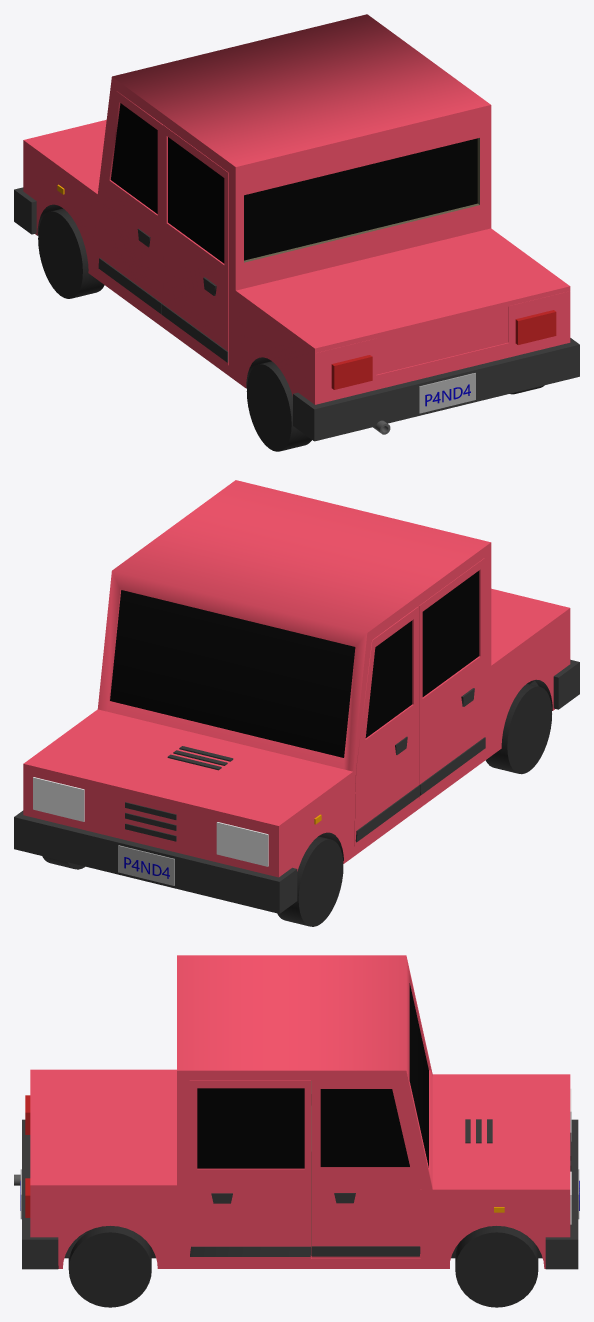
The model's file is normal_car2.fbx.
The picture shows the model from 3 angles, top to bottom: view 1: azimuth 30°, elevation 25°; view 2: azimuth 150°, elevation 25°; view 3: azimuth 270°, elevation 25°; orthographic projection. The views are drawn at different scales.
Parts seen in each view (by area): view 1: Body, Openthing, BackWindow, BAgagliaio, Paraurti_1, Cofano_1, BackDoor_2, FrontDoor_2, Window_4, Wheel_2_2, Window_5, Wheel_1 (+6 smaller); view 2: Body, Cofano_1, Window, Paraurti, FrontDoor_2, BackDoor_2, BAgagliaio, Window_4, Wheel_1, Window_5, Wheel_2_2, Openthing (+8 smaller); view 3: Body, Cofano_1, Openthing, BackDoor, FrontDoor, Window_2, BAgagliaio, Window_3, Wheel_1_2, Wheel_2, Paraurti_1, Paraurti (+3 smaller).
Boxes of the visible parts, x1=… form: Body: x1=88, y1=14, x2=491, y2=375; Openthing: x1=235, y1=228, x2=570, y2=374; BackWindow: x1=244, y1=138, x2=477, y2=260; BAgagliaio: x1=229, y1=291, x2=570, y2=404; Paraurti_1: x1=293, y1=338, x2=579, y2=441; Cofano_1: x1=23, y1=120, x2=106, y2=282; BackDoor_2: x1=163, y1=125, x2=228, y2=365; FrontDoor_2: x1=98, y1=91, x2=162, y2=317; Window_4: x1=168, y1=137, x2=224, y2=263; Wheel_2_2: x1=38, y1=208, x2=104, y2=298; Window_5: x1=111, y1=103, x2=157, y2=213; Wheel_1: x1=246, y1=361, x2=311, y2=451; Body: x1=97, y1=480, x2=491, y2=863; Cofano_1: x1=23, y1=709, x2=359, y2=877; Window: x1=110, y1=590, x2=355, y2=757; Paraurti: x1=14, y1=810, x2=297, y2=913; FrontDoor_2: x1=354, y1=606, x2=418, y2=846; BackDoor_2: x1=418, y1=558, x2=484, y2=798; BAgagliaio: x1=484, y1=613, x2=570, y2=760; Window_4: x1=422, y1=570, x2=479, y2=696; Wheel_1: x1=485, y1=683, x2=551, y2=774; Window_5: x1=365, y1=620, x2=412, y2=737; Wheel_2_2: x1=277, y1=836, x2=343, y2=926; Openthing: x1=490, y1=588, x2=570, y2=670; Body: x1=177, y1=955, x2=449, y2=1268; Cofano_1: x1=420, y1=1074, x2=570, y2=1268; Openthing: x1=30, y1=1069, x2=176, y2=1189; BackDoor: x1=189, y1=1080, x2=310, y2=1258; FrontDoor: x1=311, y1=1080, x2=420, y2=1258; Window_2: x1=197, y1=1088, x2=304, y2=1168; BAgagliaio: x1=30, y1=1189, x2=189, y2=1268; Window_3: x1=320, y1=1089, x2=409, y2=1167; Wheel_1_2: x1=455, y1=1226, x2=538, y2=1307; Wheel_2: x1=68, y1=1226, x2=151, y2=1307; Paraurti_1: x1=22, y1=1119, x2=87, y2=1269; Paraurti: x1=545, y1=1119, x2=578, y2=1269.
Size of the model in its own units: 260 by 238 by 518.
